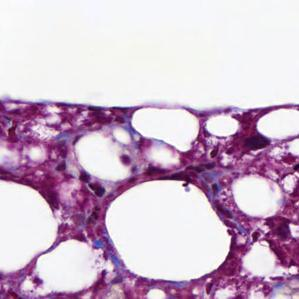inflammation: (73, 162, 109, 203)
